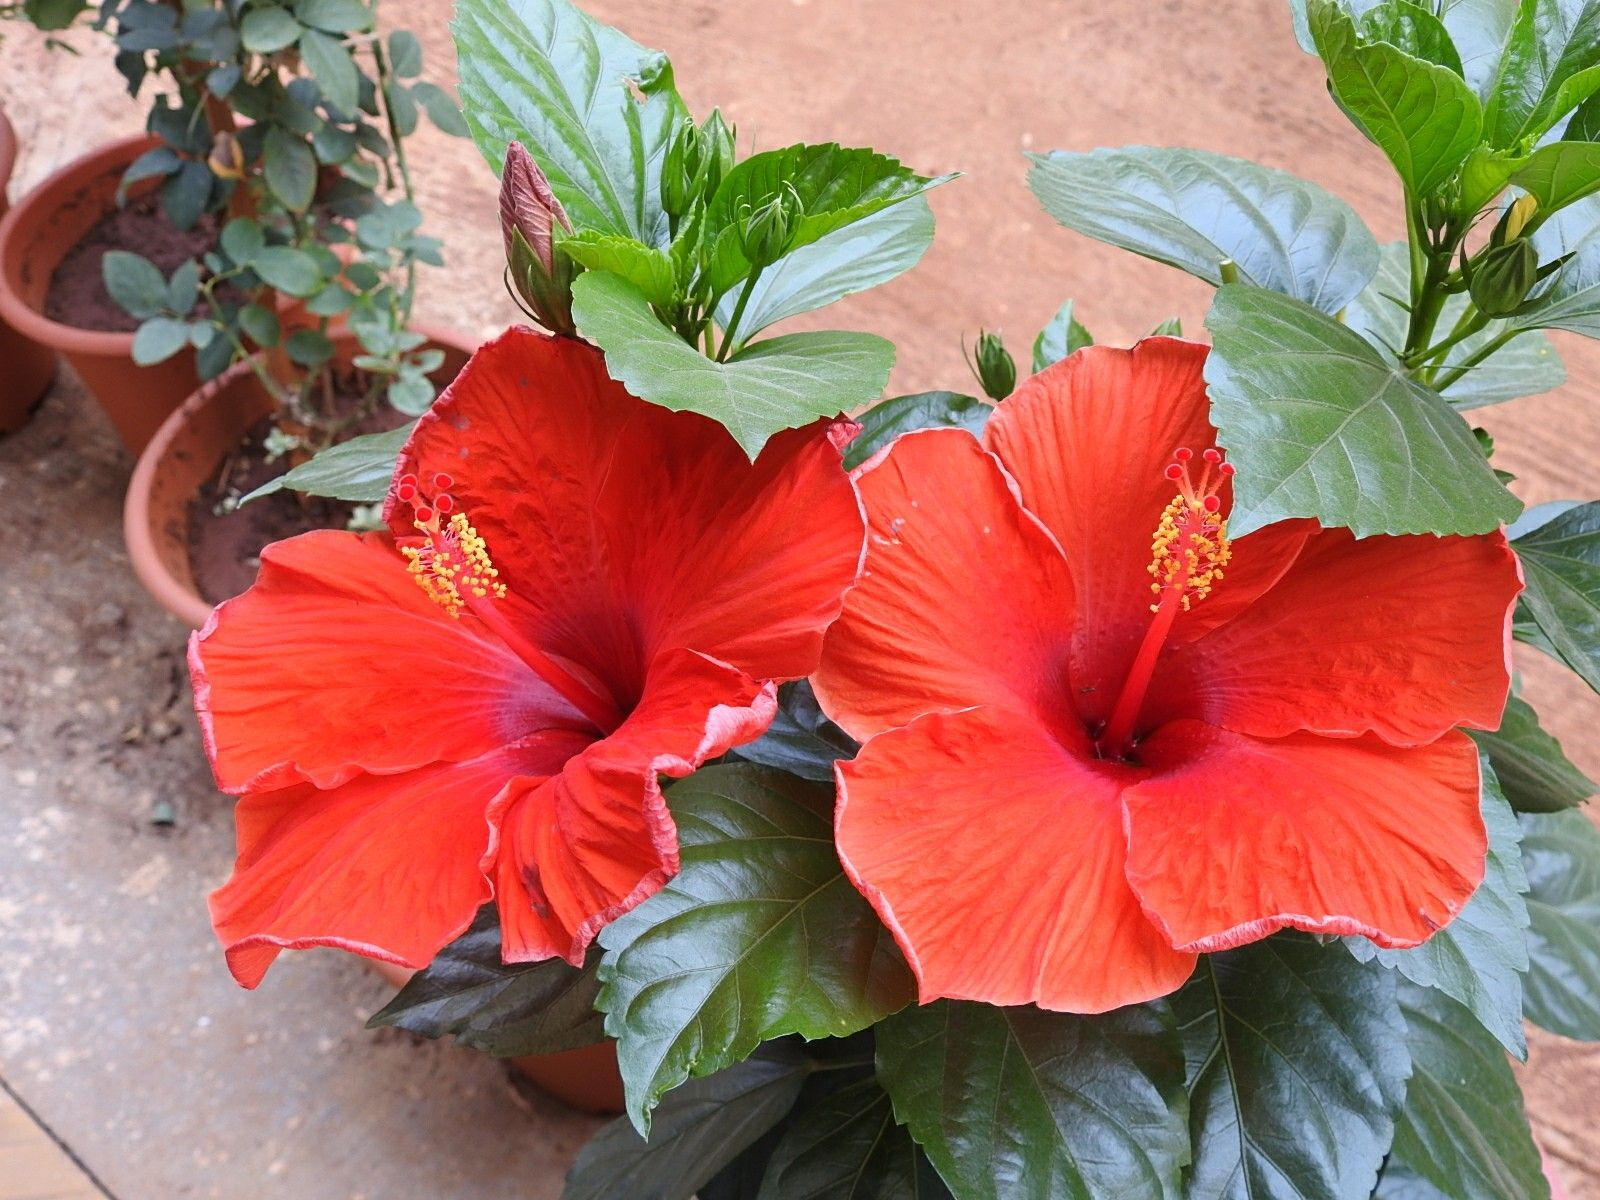Hibiscus-rosa-sinesis: (824, 343, 1516, 1015), (190, 333, 868, 961)
